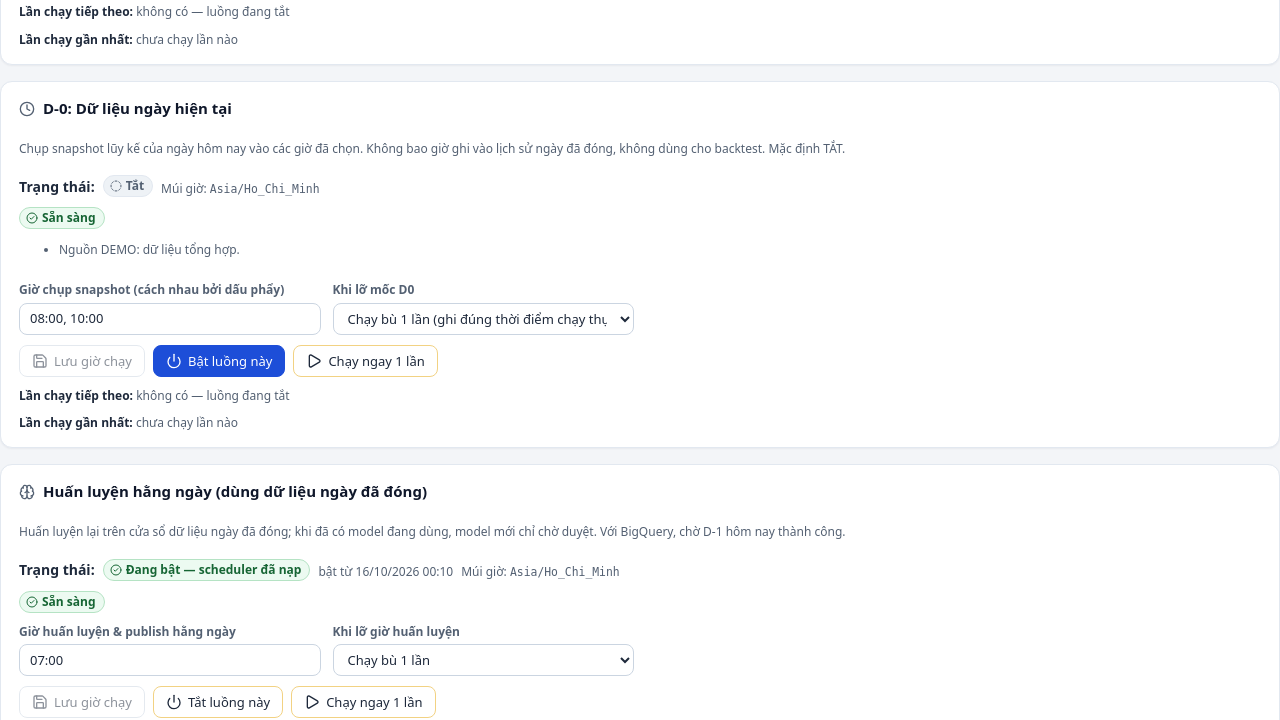
Test: audit 16/10/2026: job outcome and 'run once now' follow-up on the schedules page › an already running job is reported as such, not as a new job
(page scrolled)
Click the button with test id "run-d0" at (366, 361), box [293,345,438,377]
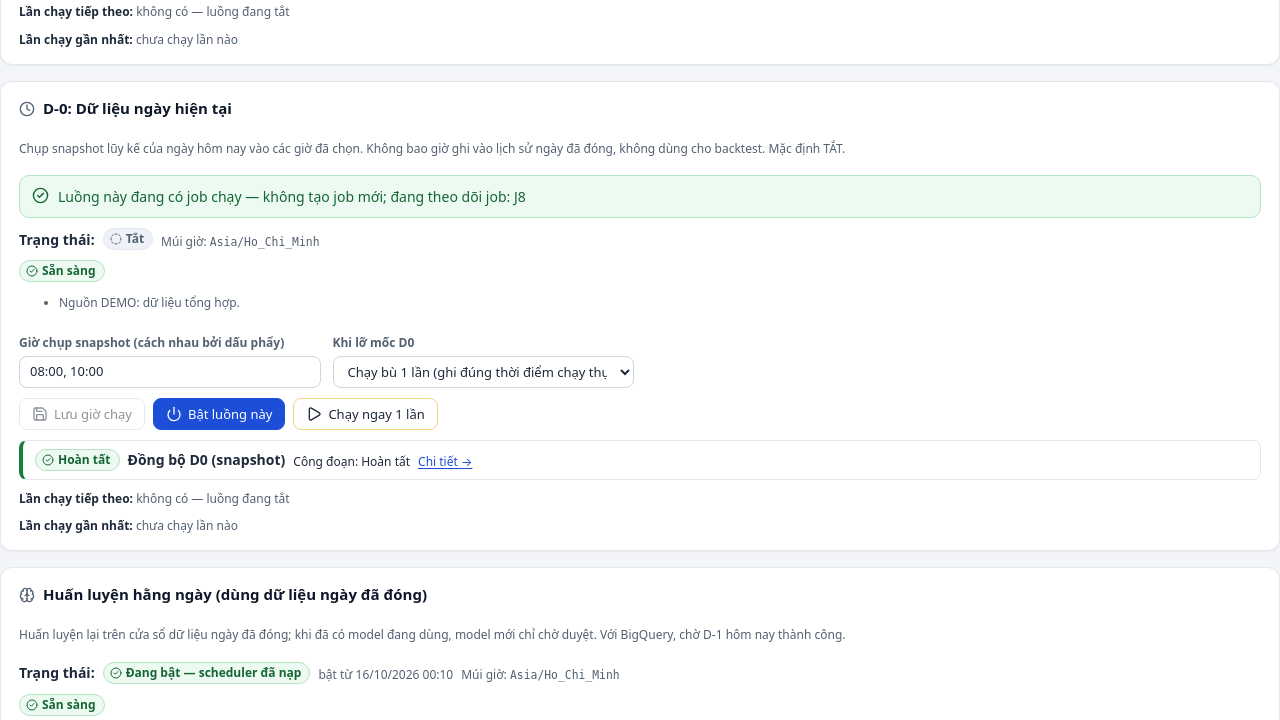
Check: the element with test id "flow-d0" shows "đang có job chạy", box [58,187,526,206]
